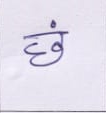anusvara: (50, 20, 56, 28)
